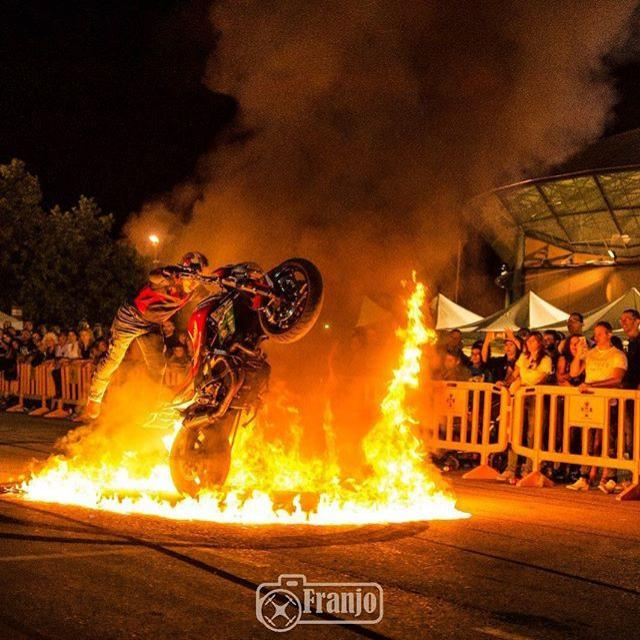fire: (15, 450, 473, 526), (362, 269, 437, 451)
